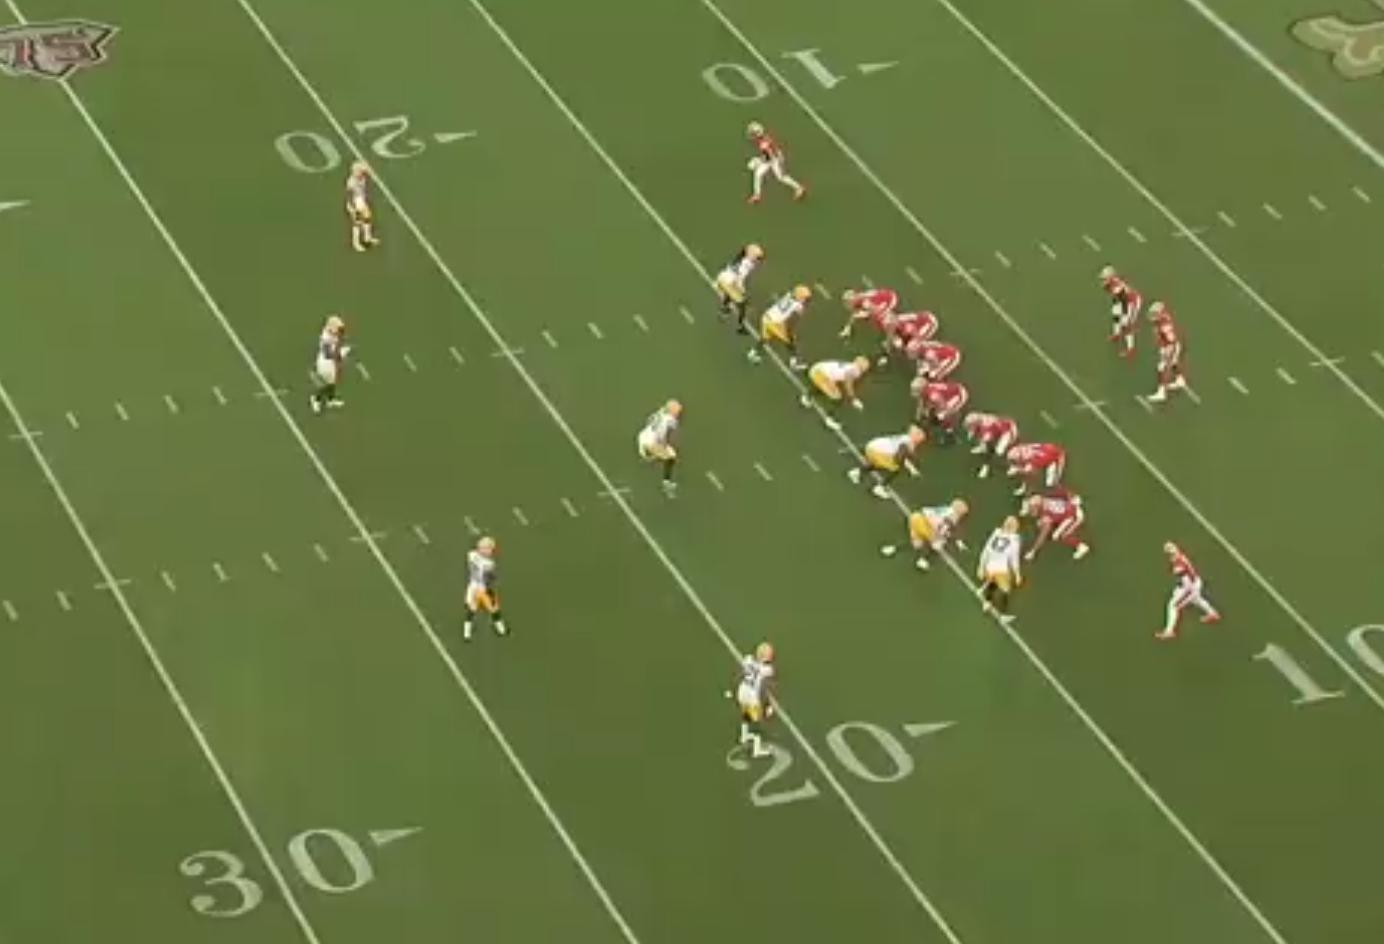player: (1151, 535, 1223, 651), (877, 496, 971, 578), (731, 636, 784, 769), (741, 117, 809, 215), (458, 527, 510, 649), (851, 425, 929, 503), (982, 511, 1032, 630), (747, 284, 814, 369), (1020, 489, 1094, 565), (798, 355, 871, 431), (309, 309, 357, 422), (717, 241, 768, 342), (635, 395, 683, 500), (1002, 439, 1068, 513), (909, 377, 970, 456), (1102, 265, 1147, 369), (346, 152, 387, 265), (1148, 298, 1189, 411), (964, 408, 1024, 484), (907, 337, 965, 413), (880, 306, 941, 376), (838, 284, 898, 347)
